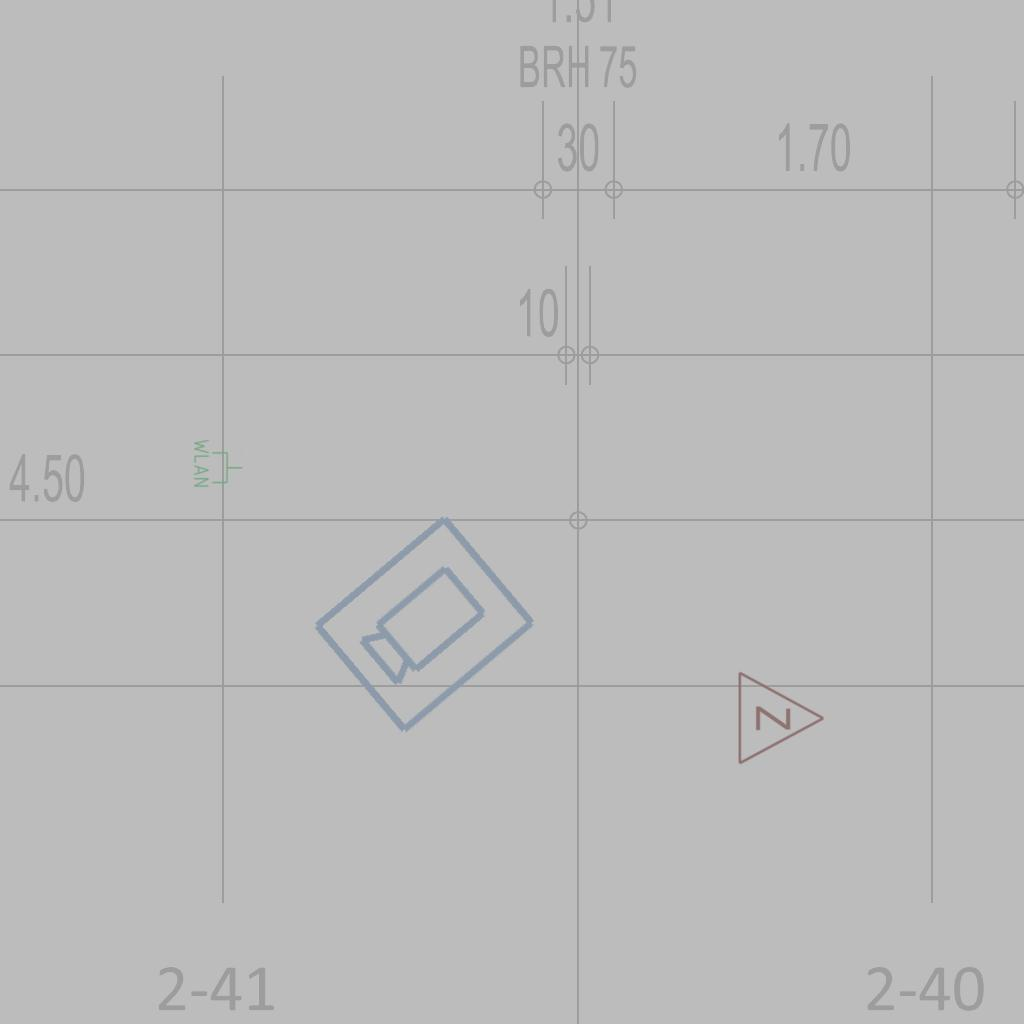KFO_Kamera_mit_Festobjektiv: (304, 505, 544, 741)
WLAN: (192, 437, 244, 489)
Zimmersignalleuchte: (731, 668, 831, 766)
